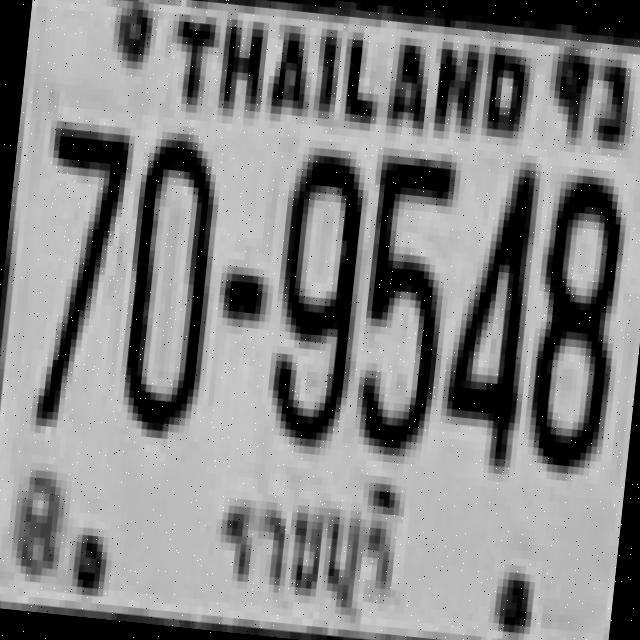0: (110, 129, 220, 433)
4: (436, 156, 536, 467)
5: (350, 147, 454, 450), (362, 147, 454, 332)
7: (21, 120, 130, 416), (30, 120, 130, 328)
8: (520, 164, 626, 468)
9: (260, 145, 370, 442)
Ratchaburi: (194, 464, 418, 628)
